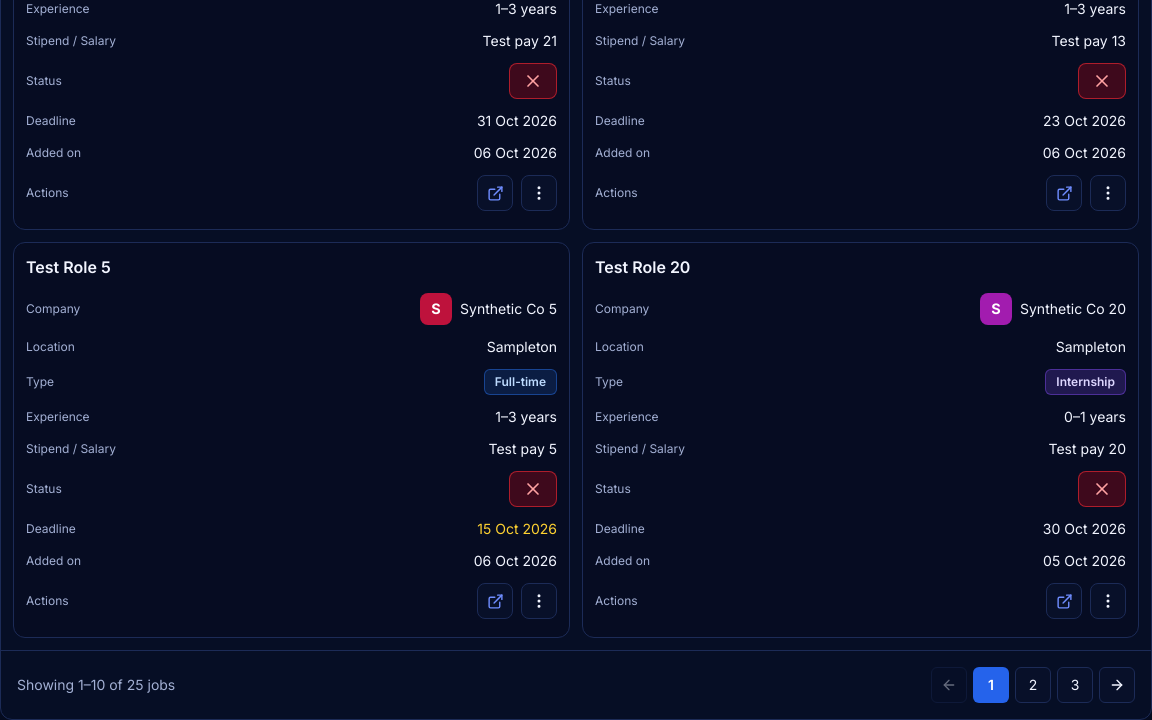
it: All Jobs: search, filters, sorting, pagination › paginates 10 per page with working next/previous/number controls
The image size is (1152, 720).
(page scrolled)
Expected: the text "Showing 1–10 of 25 jobs" is shown, [17,675,175,695]
Expected: the button named "Previous page" is disabled, [931,667,967,703]
Step 1. Click the button named "Next page" → (1117, 685), box [1099,667,1135,703]
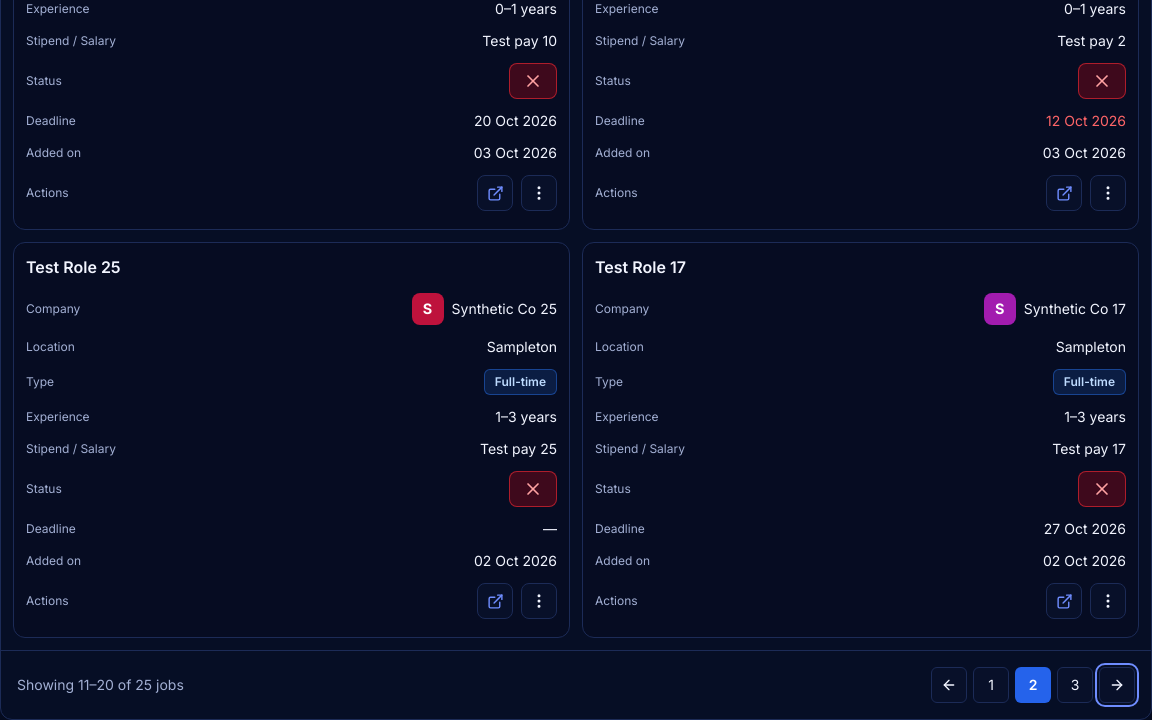
Expected: the text "Showing 11–20 of 25 jobs" is shown, [17,675,184,695]
Step 2. Click the button named "Page 3" → (1075, 685), box [1057,667,1093,703]
(page scrolled)
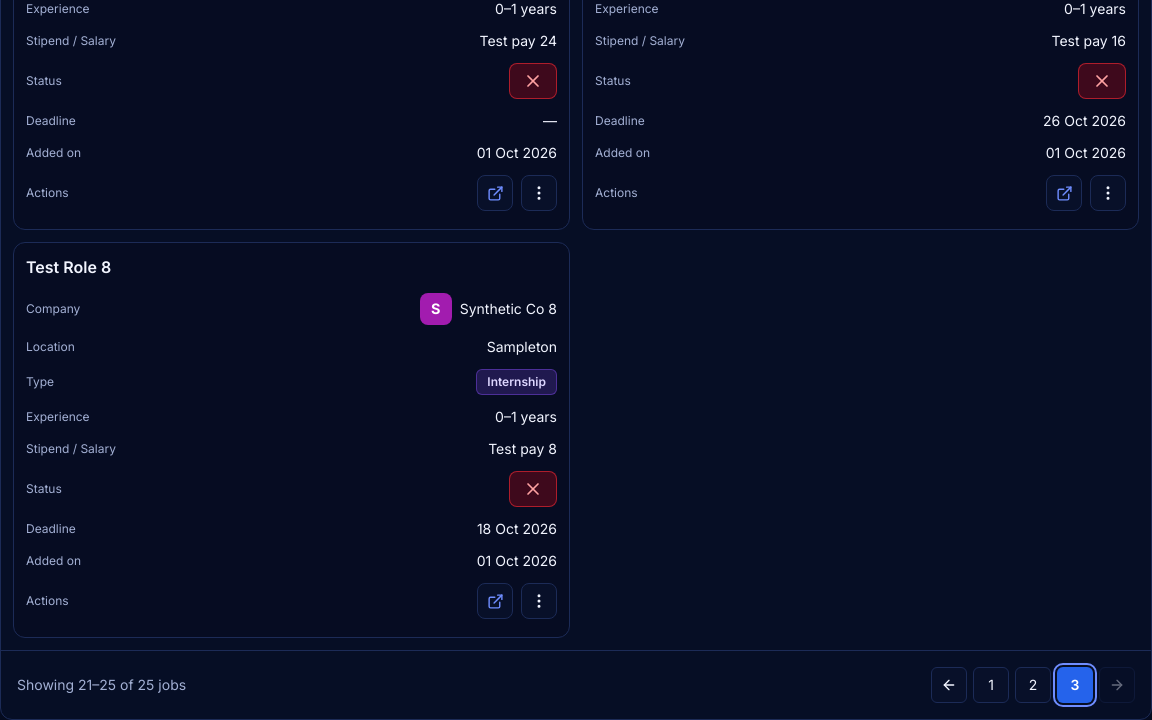
Expected: the text "Showing 21–25 of 25 jobs" is shown, [17,675,186,695]
Expected: the button named "Next page" is disabled, [1099,667,1135,703]
